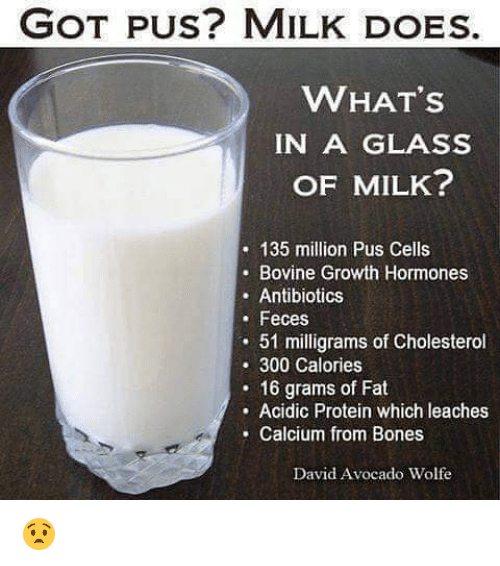glass of milk: (31, 84, 221, 459)
